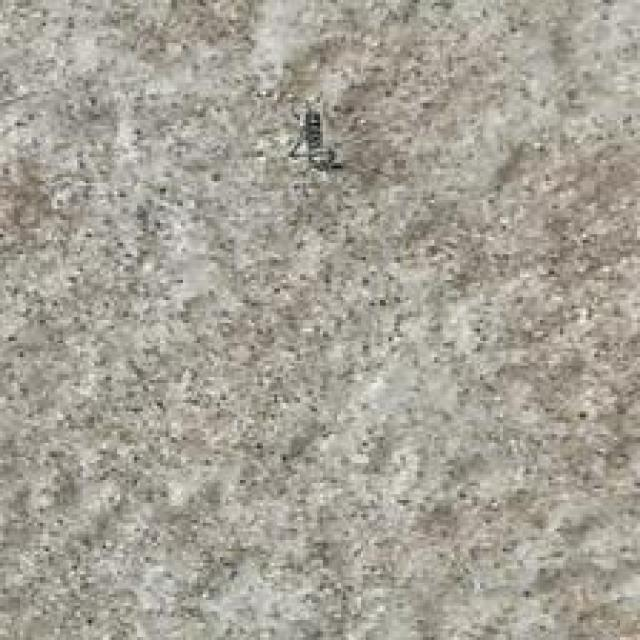Aedes albopictus: (286, 97, 343, 172)
